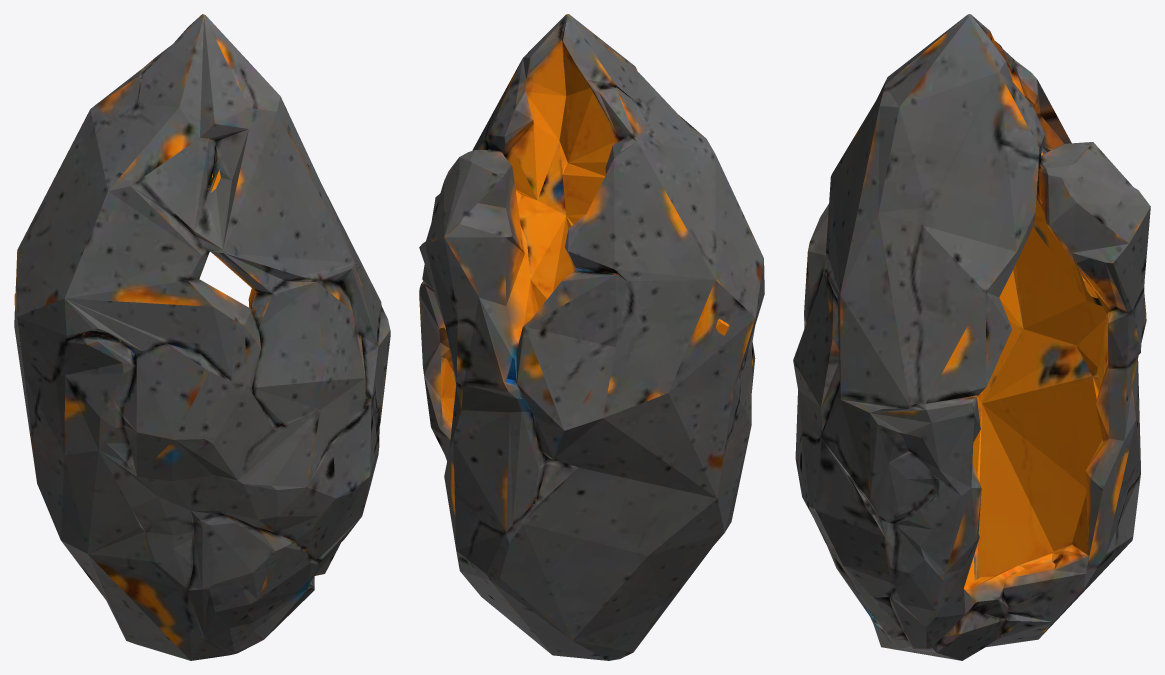
The model's file is volcanic_boulder_01.glb.
The picture shows the model from 3 angles, left to right: view 1: azimuth 30°, elevation 25°; view 2: azimuth 150°, elevation 25°; view 3: azimuth 270°, elevation 25°; orthographic projection. The views are drawn at different scales.
Visible parts, largest first — view 1: geometry_0; view 2: geometry_0; view 3: geometry_0.
Boxes of the visible parts, box(x1,y1,x2,y2) form: geometry_0: box(14, 14, 390, 660); geometry_0: box(419, 14, 764, 660); geometry_0: box(793, 14, 1150, 660).
Bounding box in the file's own units: 0.5733 × 0.9987 × 0.5005.
Materials: 1 (1 with a texture image).
